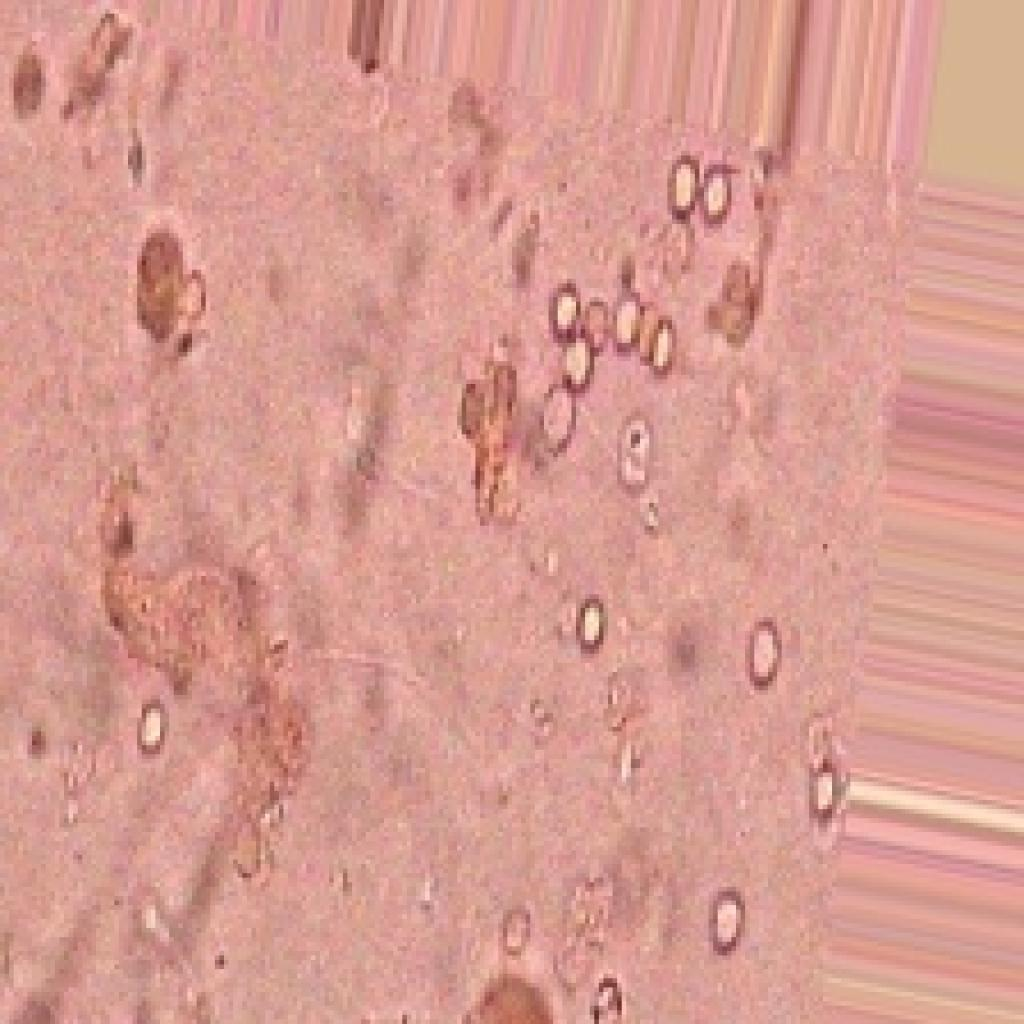Yeast: (23, 16, 1024, 1024)
